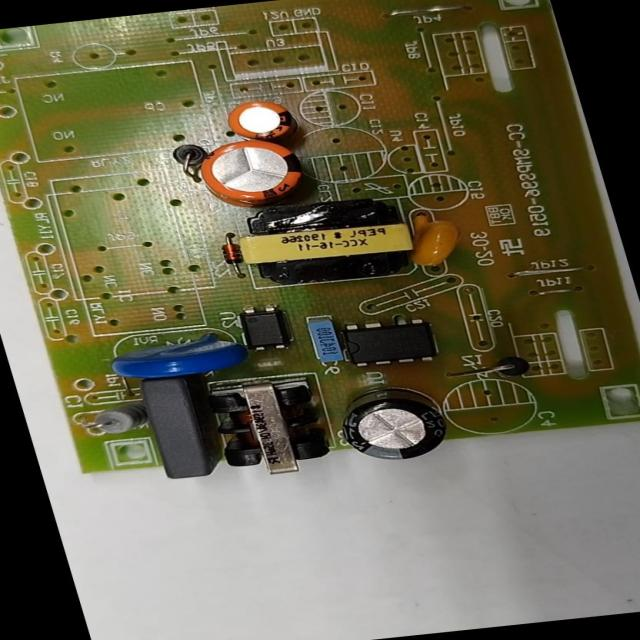Cap1: (192, 135, 314, 209)
Cap2: (222, 96, 292, 142)
Cap3: (332, 383, 449, 465)
MOSFET: (341, 316, 436, 368)
Mov: (102, 333, 248, 382)
Resistor: (80, 404, 150, 436)
Transformer: (232, 194, 422, 288), (204, 376, 334, 479)
